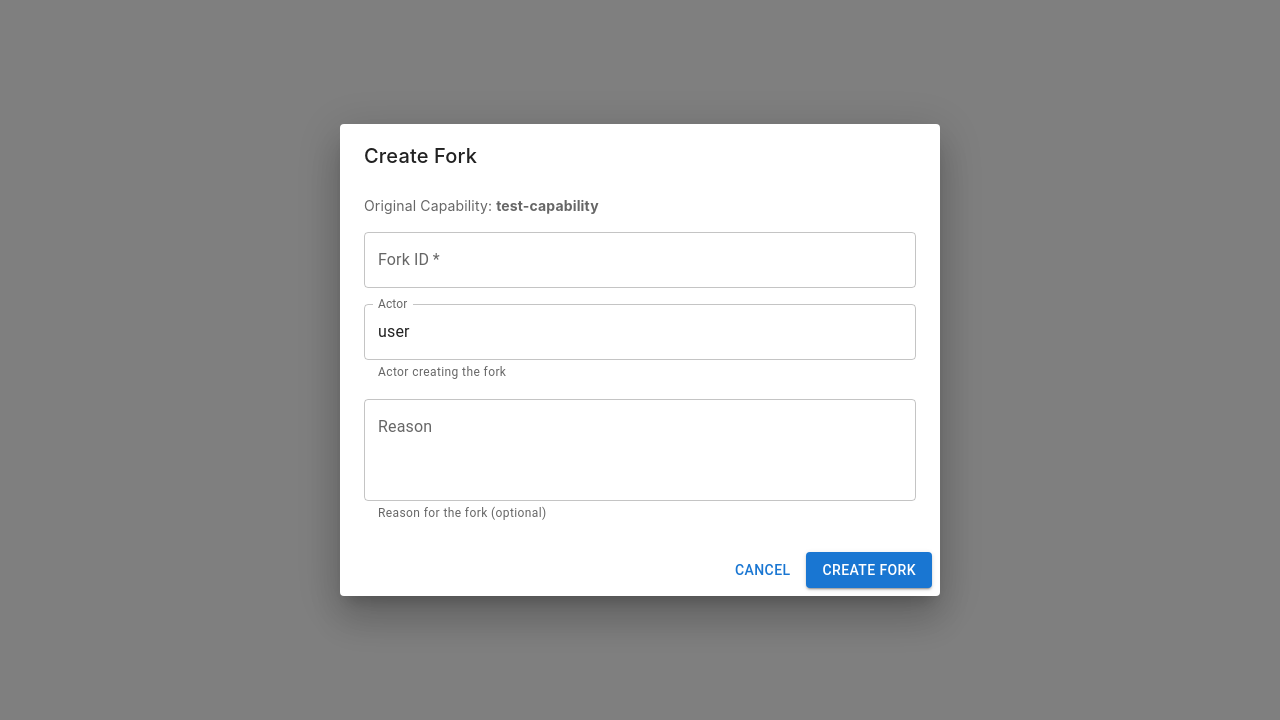
ForkDialog › shows validation error when submitting without fork_id
Click the button with test id "fork-submit-button". click: point(869, 570)
box: [806, 552, 932, 588]
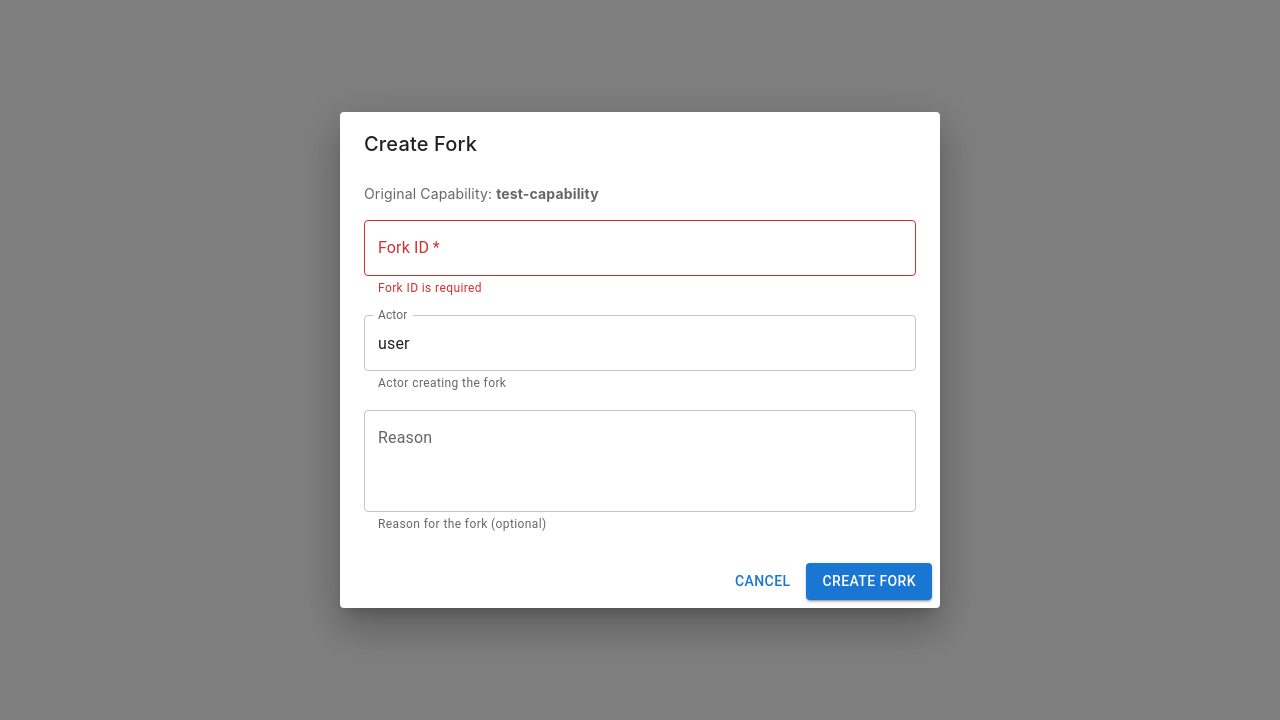
Now the text "Fork ID is required" is shown, box [378, 281, 482, 295]
